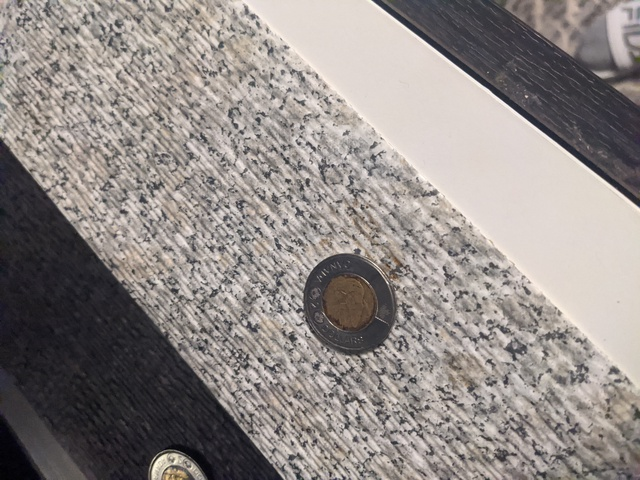twonie: (295, 245, 405, 357)
